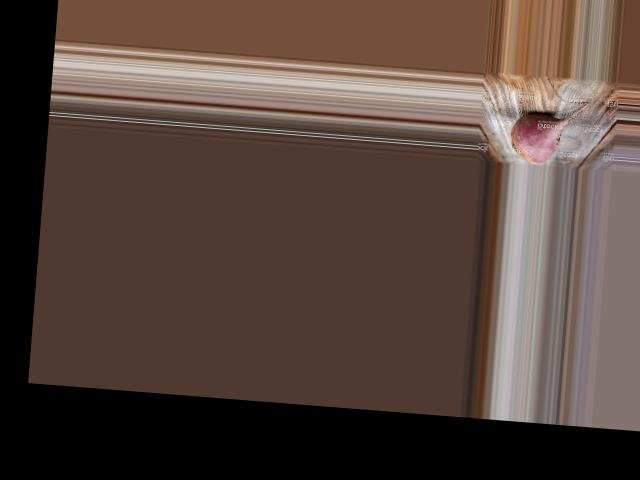beet: (509, 96, 589, 167)
